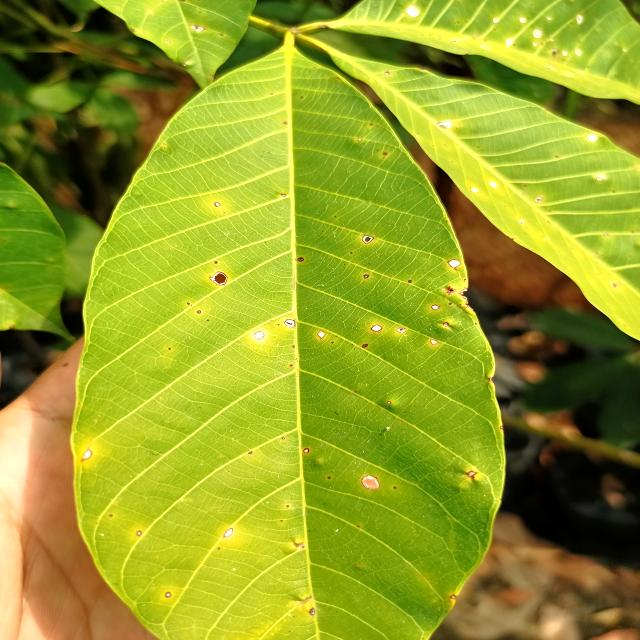Colletotrichum: (209, 271, 228, 286), (362, 235, 374, 244), (253, 331, 264, 340), (448, 260, 460, 268), (284, 320, 296, 328), (371, 325, 382, 332), (224, 529, 233, 537), (165, 591, 172, 598), (431, 304, 439, 310), (430, 339, 438, 345), (309, 607, 315, 615), (443, 322, 449, 327), (298, 257, 304, 262), (214, 202, 220, 207), (137, 531, 143, 536), (362, 343, 368, 348), (303, 448, 310, 452), (363, 274, 369, 278), (356, 138, 362, 142), (382, 152, 388, 156), (197, 310, 201, 314), (407, 280, 412, 283), (387, 401, 391, 404), (214, 261, 218, 264), (187, 302, 190, 305), (282, 437, 285, 439), (331, 342, 334, 344)
